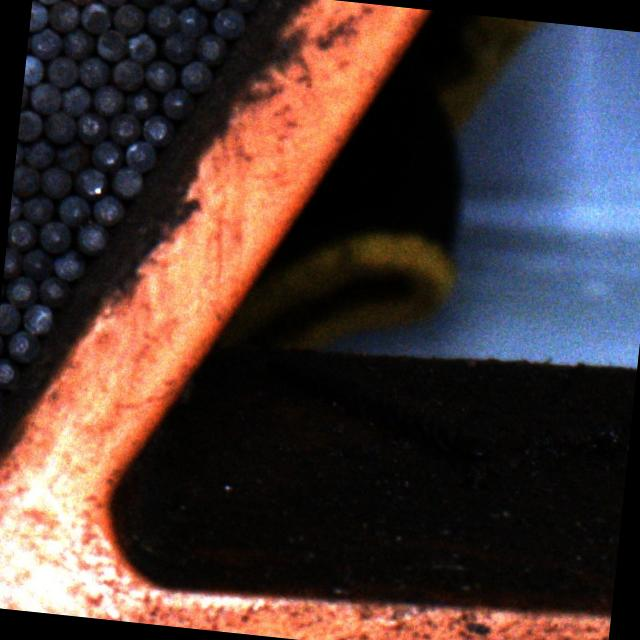tool: (89, 189, 128, 227), (50, 245, 88, 281), (36, 218, 74, 254), (73, 220, 111, 256), (5, 328, 42, 364), (19, 190, 56, 226), (178, 58, 215, 94), (108, 165, 146, 200), (74, 109, 110, 145), (124, 84, 160, 120), (144, 1, 179, 38), (138, 112, 176, 146), (27, 80, 62, 116), (76, 54, 111, 90), (59, 25, 94, 61), (195, 30, 230, 66), (20, 301, 57, 335), (41, 110, 78, 144), (160, 30, 197, 64), (59, 80, 92, 118), (92, 26, 127, 61), (124, 29, 159, 64), (54, 192, 90, 226), (89, 138, 125, 172), (90, 82, 126, 116), (160, 86, 196, 120), (110, 57, 146, 91), (76, 0, 112, 34), (210, 6, 246, 40), (38, 164, 72, 199), (23, 136, 58, 170), (108, 111, 142, 146), (72, 165, 108, 198), (109, 2, 146, 34), (4, 274, 38, 308), (56, 138, 90, 172), (45, 54, 79, 88), (28, 26, 62, 60), (37, 275, 72, 308), (122, 140, 158, 172), (176, 4, 208, 40), (144, 58, 177, 92), (6, 216, 38, 251), (47, 0, 80, 33), (22, 245, 54, 279), (12, 163, 42, 197), (17, 110, 44, 142), (0, 354, 21, 390), (23, 54, 46, 86), (3, 246, 25, 278), (0, 302, 21, 335), (28, 0, 48, 33), (192, 0, 227, 12), (225, 0, 261, 11), (128, 0, 163, 8), (159, 0, 191, 8), (96, 0, 130, 7), (0, 385, 4, 418)
